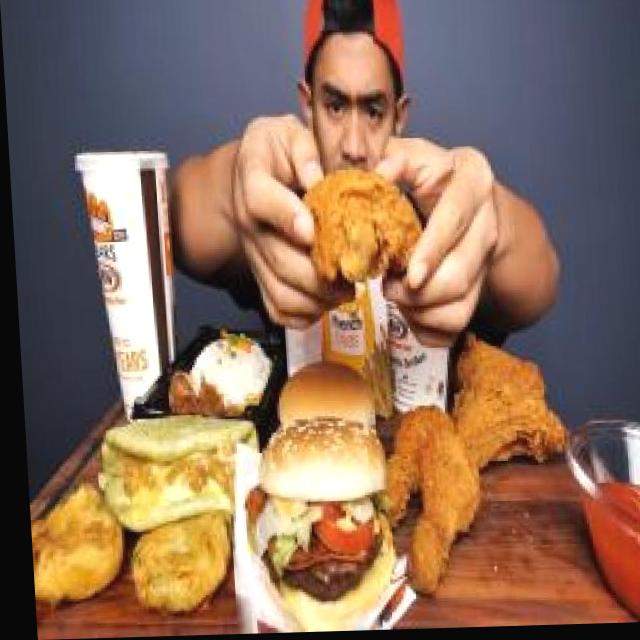AW cola: (69, 126, 195, 414)
black pepper rice bowl: (155, 324, 283, 427)
cheese burger: (266, 345, 379, 447)
fried chicken: (363, 314, 590, 617), (280, 143, 432, 302)
mango chicken pocket: (92, 402, 263, 539)
mozza burger: (228, 416, 403, 635)
perkedel: (111, 498, 240, 624), (22, 476, 119, 618)
